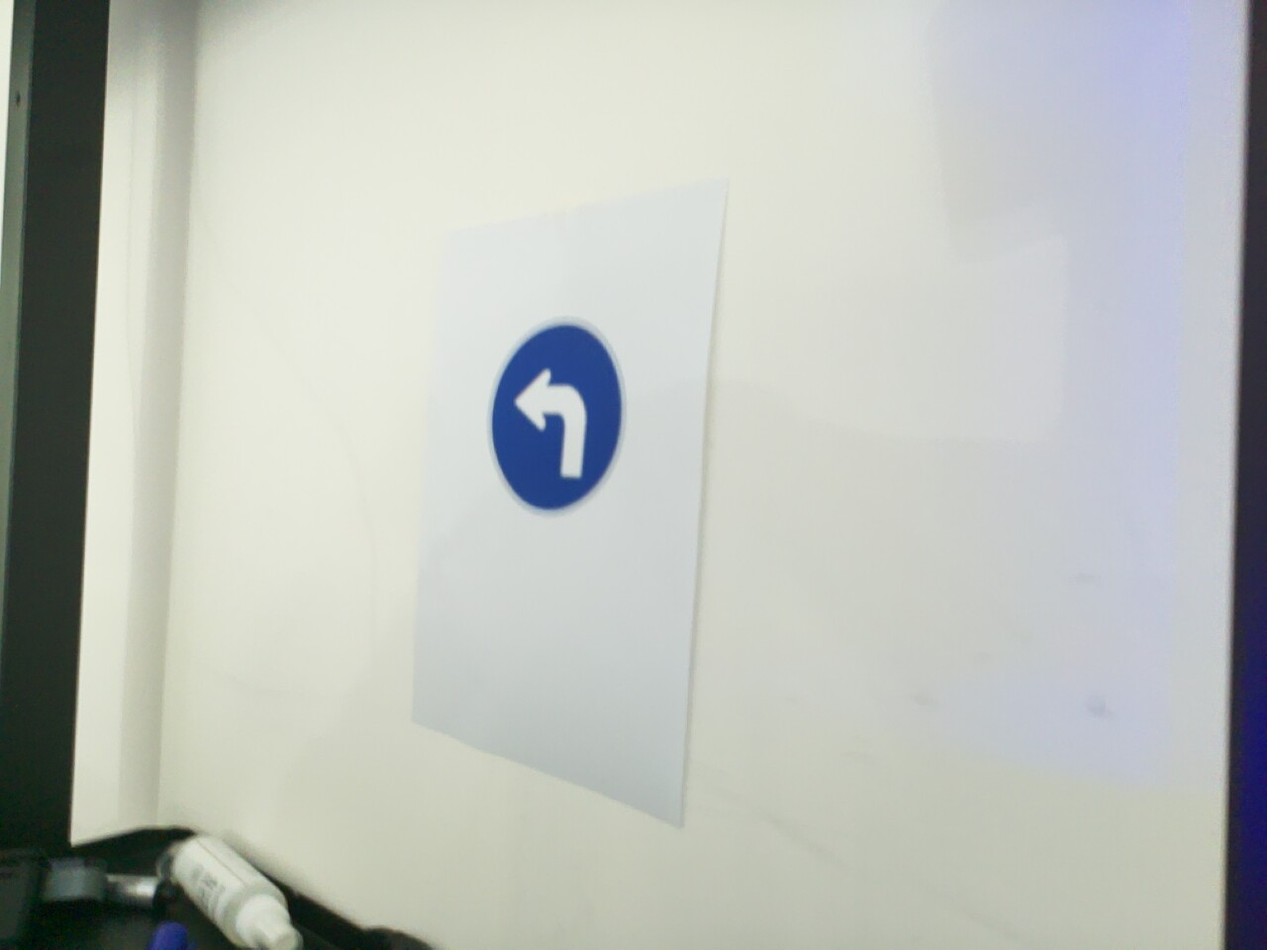left_turn: (486, 318, 628, 517)
